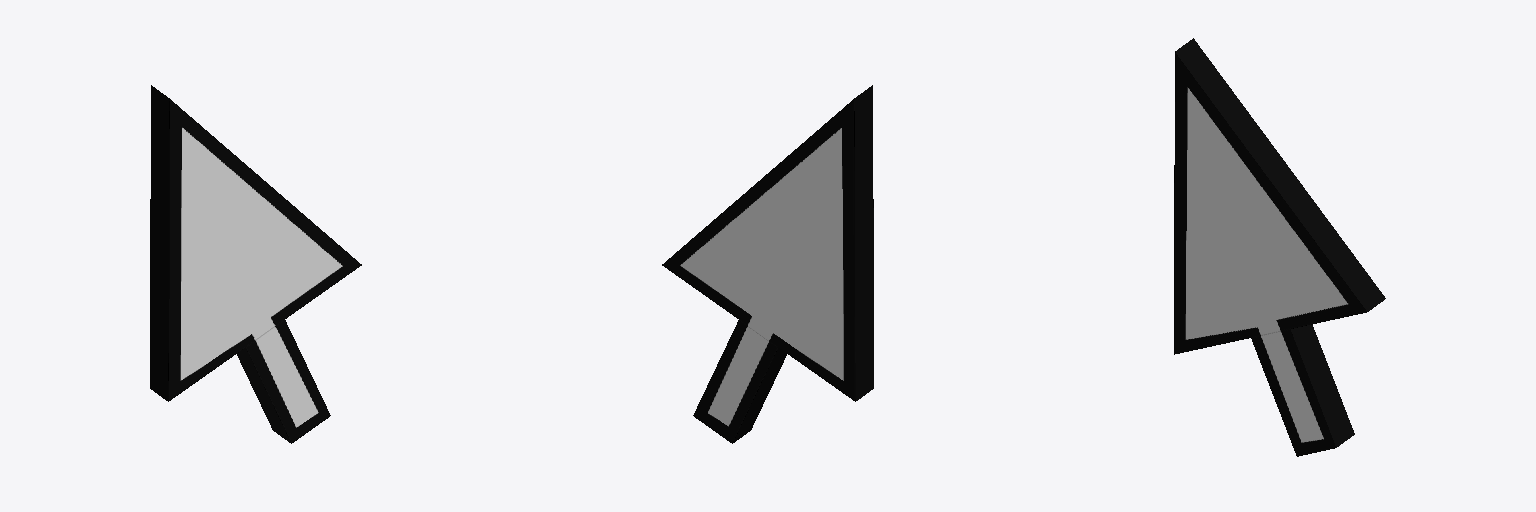
The picture shows the model from 3 angles: view 1: azimuth 30°, elevation 25°; view 2: azimuth 150°, elevation 25°; view 3: azimuth 330°, elevation 25°; orthographic projection.
Parts seen in each view (by area): view 1: pointer_pointer-mesh; view 2: pointer_pointer-mesh; view 3: pointer_pointer-mesh.
Boxes of the visible parts, box(x1,y1,x2,y2) form: pointer_pointer-mesh: box(150, 85, 361, 443); pointer_pointer-mesh: box(662, 85, 873, 443); pointer_pointer-mesh: box(1174, 38, 1385, 456).
Bounding box in the file's own units: 1.34 × 2.48 × 0.2223.
Materials: 1 (1 with a texture image).